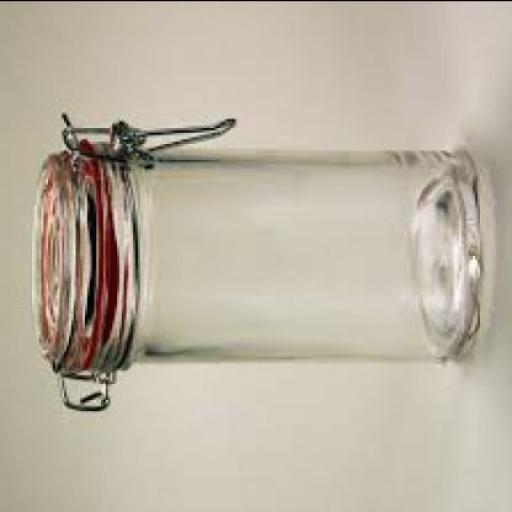glass: (32, 142, 491, 379)
metal: (55, 118, 234, 154), (57, 380, 108, 412)
